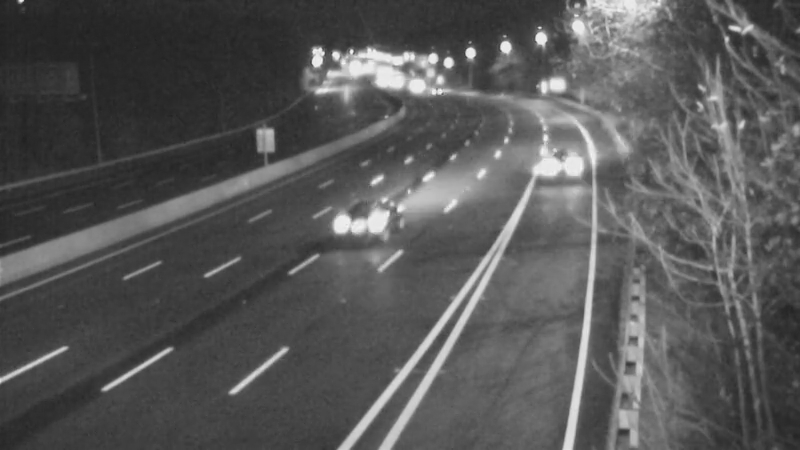vehicle: (510, 128, 590, 208), (305, 186, 385, 266), (390, 62, 440, 112), (415, 64, 465, 114)
